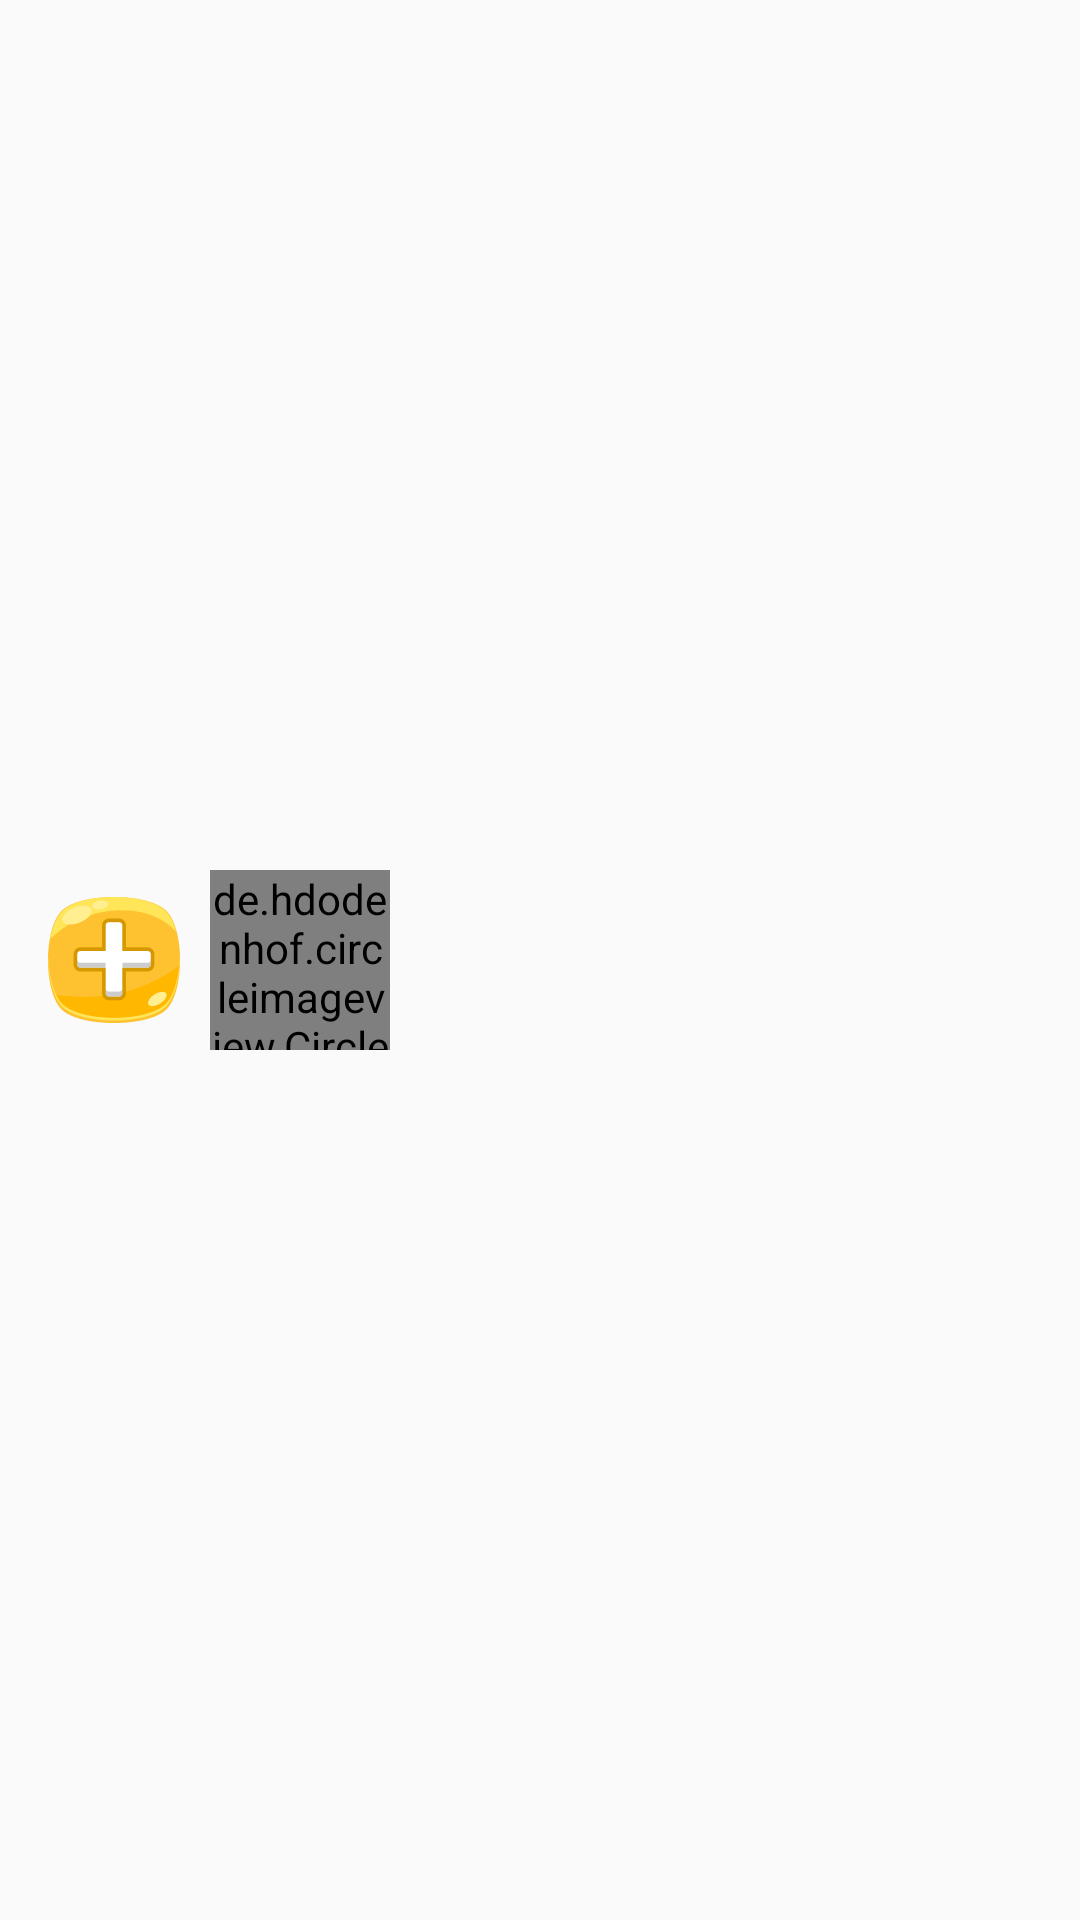

Screen size 1080x1920. Icon name, then its box in pixels as [x1, y1, x2, y2]:
add child: [48, 897, 180, 1023]
